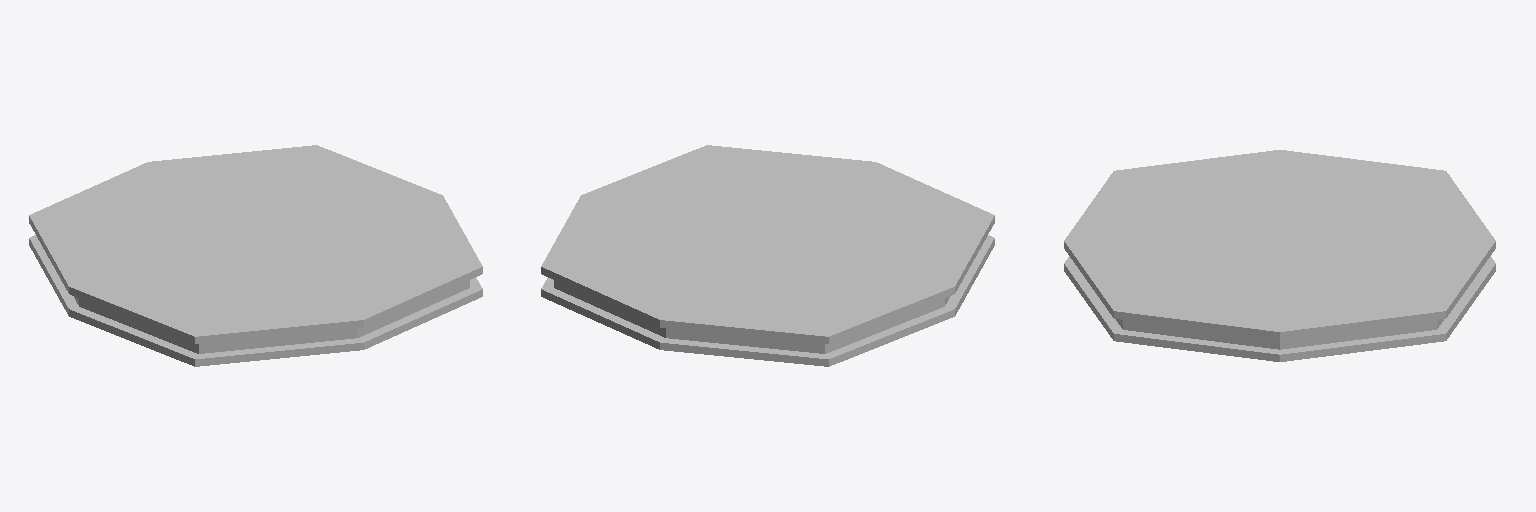
The model's file is arena_low.obj.
The picture shows the model from 3 angles: view 1: azimuth 30°, elevation 25°; view 2: azimuth 150°, elevation 25°; view 3: azimuth 270°, elevation 25°; orthographic projection.
Parts seen in each view (by area): view 1: Arena_Low; view 2: Arena_Low; view 3: Arena_Low.
Boxes of the visible parts, x1=… form: Arena_Low: x1=29, y1=145, x2=482, y2=366; Arena_Low: x1=541, y1=145, x2=994, y2=366; Arena_Low: x1=1064, y1=150, x2=1495, y2=361.
Size of the model in its own units: 5.2 by 0.4 by 5.2.